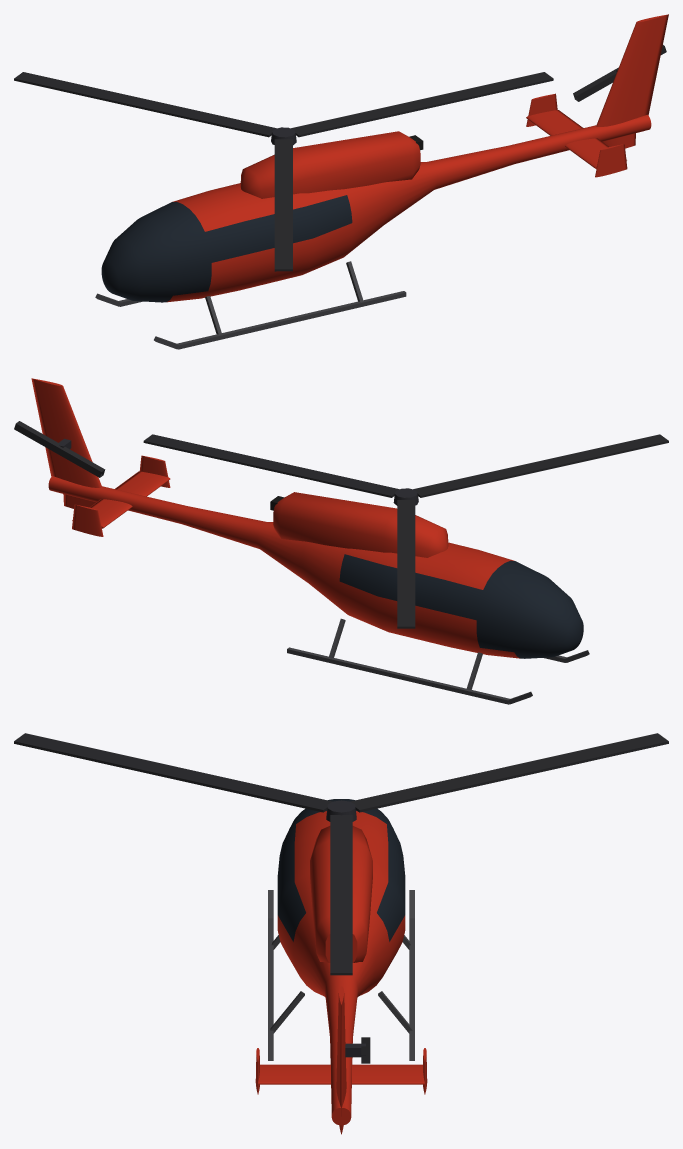
3 views of the same model, one above another, from view 1: azimuth 30°, elevation 25°; view 2: azimuth 150°, elevation 25°; view 3: azimuth 270°, elevation 25° (orthographic). The views are drawn at different scales.
Visible parts, largest first — view 1: as50; view 2: as50; view 3: as50.
Part boxes in pixels (<box>): as50: <box>14,14,668,349</box>; as50: <box>14,378,668,704</box>; as50: <box>14,733,668,1134</box>.
Size of the model in its own units: 11.49 by 3.63 by 9.42.
